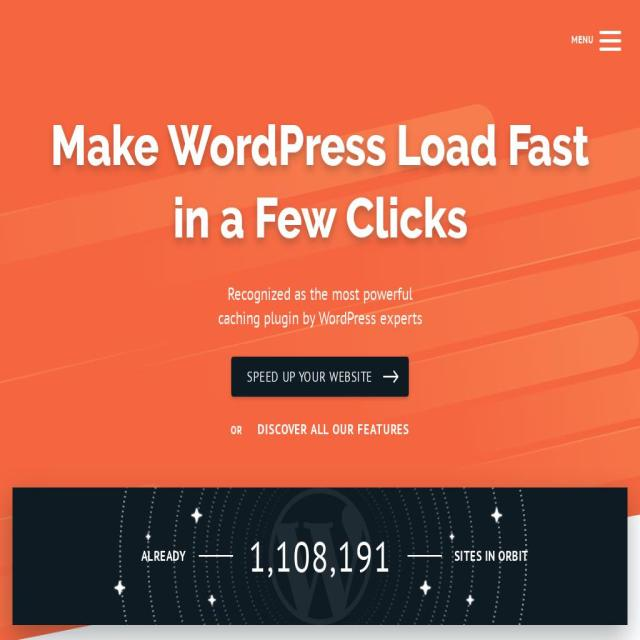button: (12, 0, 138, 81), (552, 0, 640, 81), (231, 356, 409, 396)
heading: (12, 17, 138, 62)
link: (258, 420, 410, 438)
text: (51, 112, 590, 178), (172, 184, 468, 251), (186, 520, 454, 592), (209, 282, 431, 330), (247, 364, 372, 388), (454, 547, 528, 565), (141, 547, 186, 565), (571, 34, 593, 46), (230, 421, 242, 440)
